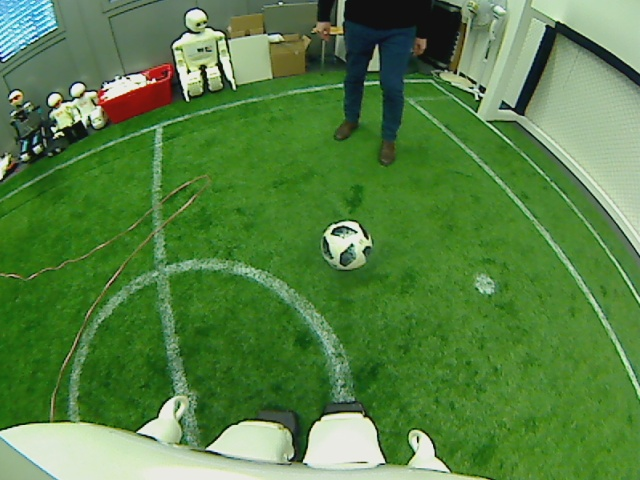ball: (319, 219, 372, 273)
